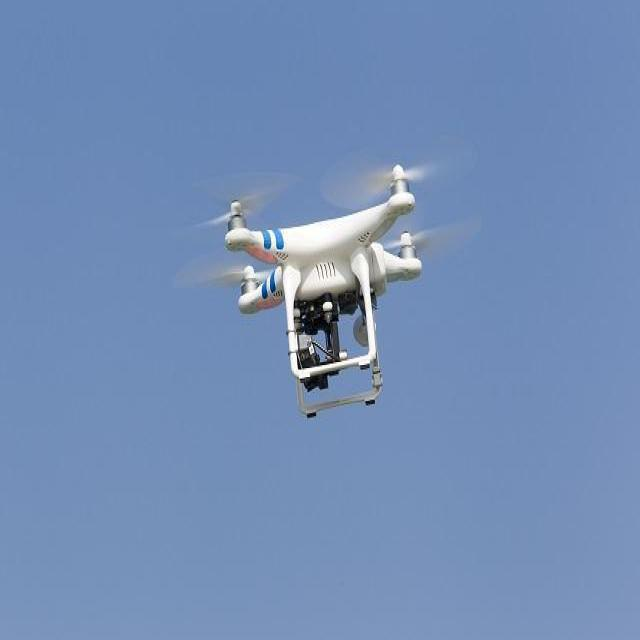UAV: (225, 156, 426, 418)
